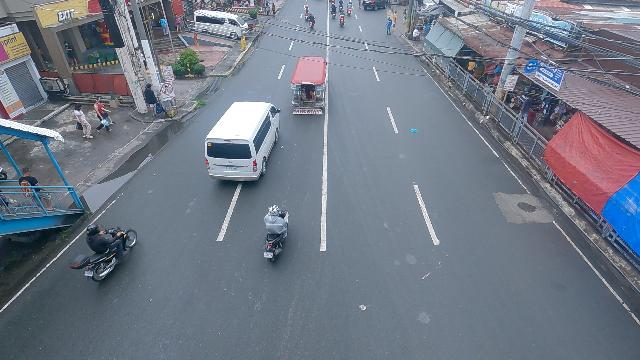car: (362, 0, 389, 11)
jeepney: (291, 57, 329, 116)
motorcycle: (69, 224, 139, 284), (261, 204, 289, 264), (330, 7, 338, 20), (308, 16, 315, 30), (304, 7, 310, 20), (340, 12, 345, 27), (347, 4, 352, 16), (338, 2, 344, 12)
van: (203, 100, 281, 184), (192, 9, 251, 41)
